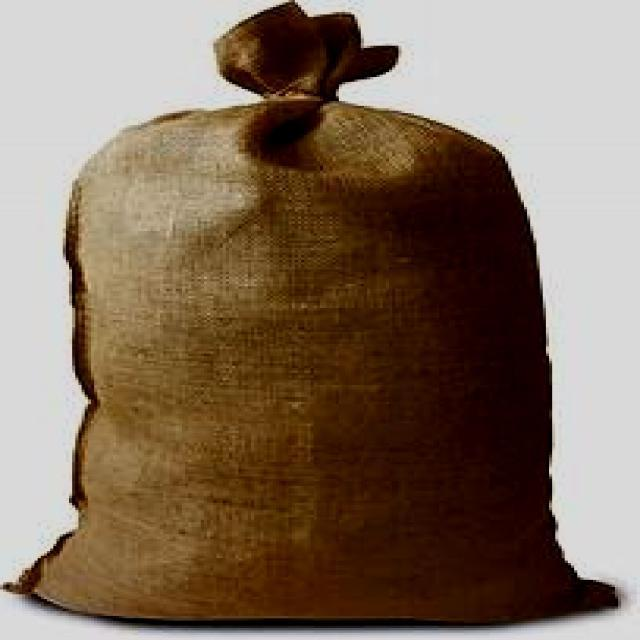gunny_bag: (13, 0, 623, 634)
